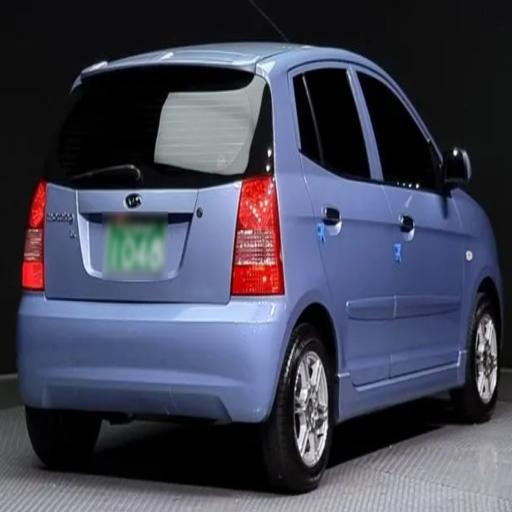normal: (14, 20, 506, 492)
